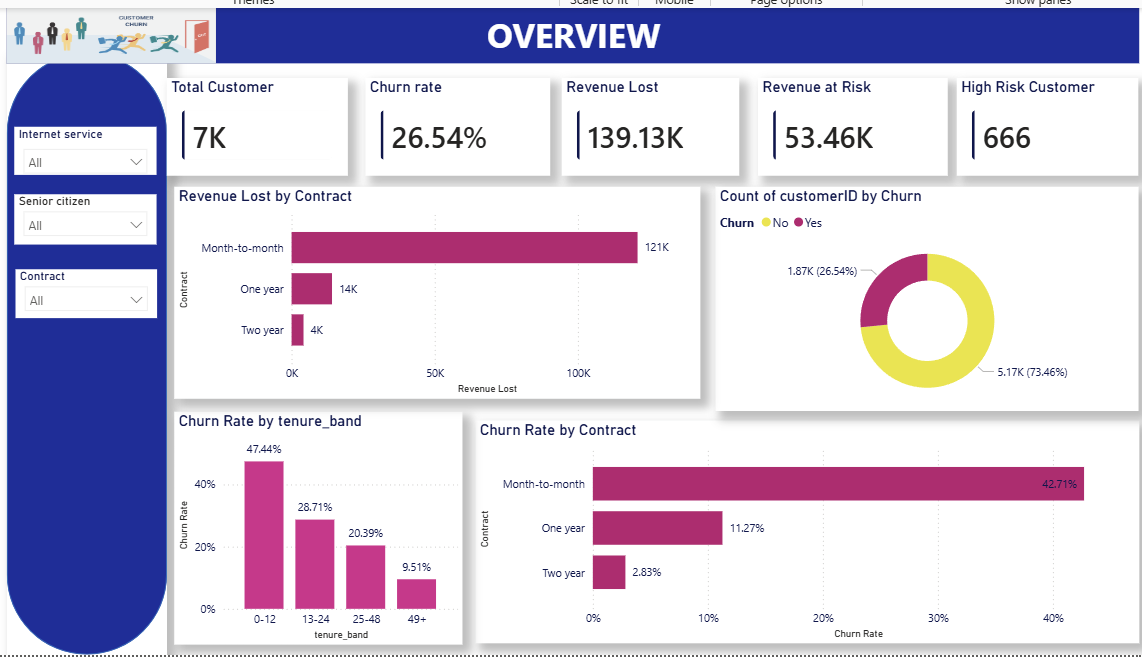

Layout of this report page (visuals, bound fields, positions):
{"tool":"powerbi","page":{"name":"Overview","canvas":[1280,720],"ordinal":1},"visuals":[{"type":"shape","box":[9.6,50.8,178.4,669.6],"z":1000},{"type":"textbox","box":[9.3,0,1261.6,61.6],"z":2000},{"type":"cardVisual","title":"Total Customer","fields":{"Data":["Churn_Dataset.total_customers"]},"box":[188.3,78.2,201.7,108.4],"z":3000},{"type":"cardVisual","title":"Churn rate","fields":{"Data":["Churn_Dataset.Churn Rate"]},"box":[409.2,78.2,205.8,108.4],"z":4000},{"type":"cardVisual","title":"Revenue Lost","fields":{"Data":["Churn_Dataset.Revenue Lost"]},"box":[627.4,78.2,197.6,108.4],"z":5000},{"type":"cardVisual","title":"Revenue at Risk","fields":{"Data":["Churn_Dataset.Revenue at Risk"]},"box":[845.6,78.2,211.3,108.4],"z":6000},{"type":"cardVisual","title":"High Risk Customer","fields":{"Data":["Churn_Dataset.High Risk Customers"]},"box":[1067.6,78.2,203.1,108.4],"z":7000},{"type":"clusteredBarChart","fields":{"Category":["Churn_Dataset.Contract"],"Y":["Churn_Dataset.Churn Rate"]},"box":[531,459.7,739.6,248.4],"z":8000},{"type":"clusteredColumnChart","fields":{"Category":["Churn_Dataset.tenure_band"],"Y":["Churn_Dataset.Churn Rate"]},"box":[196.2,448.7,321.1,259.3],"z":9000},{"type":"slicer","title":"Internet service","fields":{"Values":["Churn_Dataset.InternetService"]},"box":[17.4,132.6,158.1,53.5],"z":10000},{"type":"slicer","title":"Senior citizen","fields":{"Values":["Churn_Dataset.SeniorCitizen"]},"box":[17.4,207,158.1,55.8],"z":11000},{"type":"donutChart","fields":{"Category":["Churn_Dataset.Churn"],"Y":["CountNonNull(Churn_Dataset.customerID)"]},"box":[798.6,199,472,249.7],"z":12000},{"type":"clusteredBarChart","fields":{"Category":["Churn_Dataset.Contract"],"Y":["Churn_Dataset.Revenue Lost"]},"box":[196.2,199,585.9,236],"z":13000},{"type":"image","box":[9.3,0,232.6,61.6],"z":14000},{"type":"slicer","title":"Contract","fields":{"Values":["Churn_Dataset.Contract"]},"box":[19.5,290.8,157.2,54.3],"z":14001}]}

Visuals, with their boxes on the page's 1280x720 design canvas (x1, y1, x2, y2). These are canvas units, not pixel positions in the 1142x657 screenshot, which may show the page scaled, cropped or inside an application window:
shape: (x1=10, y1=51, x2=188, y2=720)
textbox: (x1=9, y1=0, x2=1271, y2=62)
"Total Customer" cardVisual: (x1=188, y1=78, x2=390, y2=187)
"Churn rate" cardVisual: (x1=409, y1=78, x2=615, y2=187)
"Revenue Lost" cardVisual: (x1=627, y1=78, x2=825, y2=187)
"Revenue at Risk" cardVisual: (x1=846, y1=78, x2=1057, y2=187)
"High Risk Customer" cardVisual: (x1=1068, y1=78, x2=1271, y2=187)
clusteredBarChart - Churn_Dataset.Contract x Churn_Dataset.Churn Rate: (x1=531, y1=460, x2=1271, y2=708)
clusteredColumnChart - Churn_Dataset.tenure_band x Churn_Dataset.Churn Rate: (x1=196, y1=449, x2=517, y2=708)
"Internet service" slicer: (x1=17, y1=133, x2=176, y2=186)
"Senior citizen" slicer: (x1=17, y1=207, x2=176, y2=263)
donutChart - Churn_Dataset.Churn x CountNonNull(Churn_Dataset.customerID): (x1=799, y1=199, x2=1271, y2=449)
clusteredBarChart - Churn_Dataset.Contract x Churn_Dataset.Revenue Lost: (x1=196, y1=199, x2=782, y2=435)
image: (x1=9, y1=0, x2=242, y2=62)
"Contract" slicer: (x1=20, y1=291, x2=177, y2=345)
